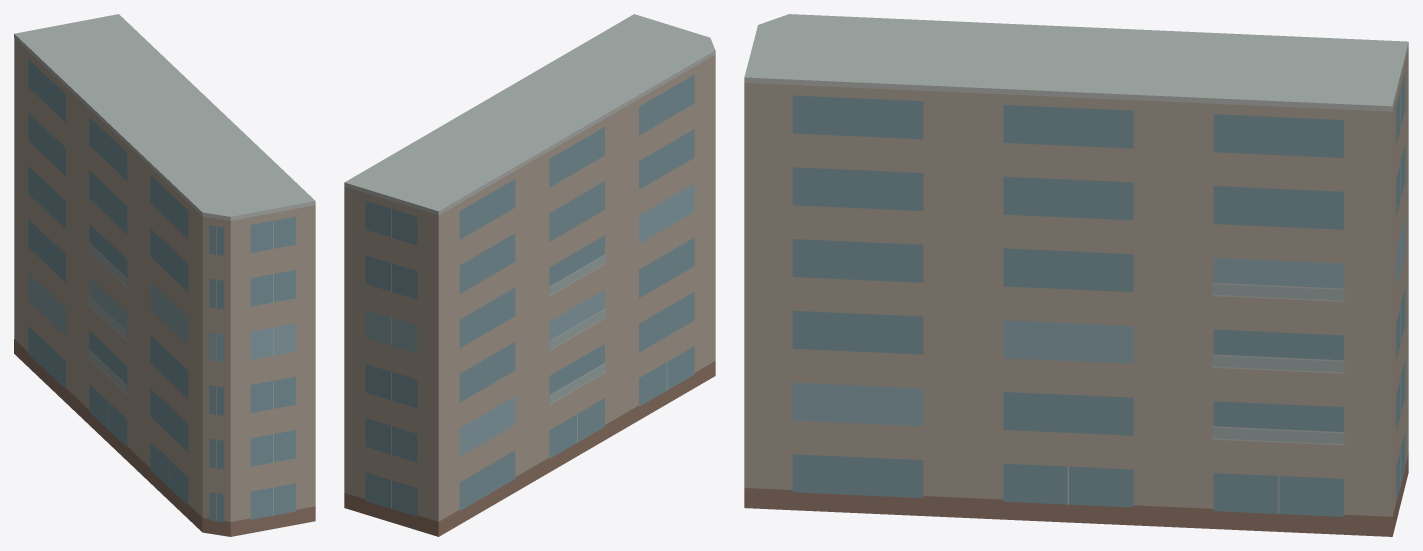
File: survey-upis-32962237.glb
3 views of the same model, side by side, from view 1: azimuth 30°, elevation 25°; view 2: azimuth 150°, elevation 25°; view 3: azimuth 270°, elevation 25° (orthographic). The views are drawn at different scales.
Visible parts, largest first — view 1: survey-upis-32962237.tmp; view 2: survey-upis-32962237.tmp; view 3: survey-upis-32962237.tmp.
Boxes of the visible parts, x1,y1,x2,y2 form: survey-upis-32962237.tmp: [14, 14, 315, 536]; survey-upis-32962237.tmp: [344, 14, 715, 536]; survey-upis-32962237.tmp: [744, 14, 1408, 536].
Bounding box in the file's own units: 8.93 × 19.4 × 27.14.
